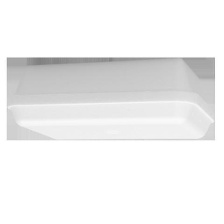foam_box: (6, 57, 215, 140)
